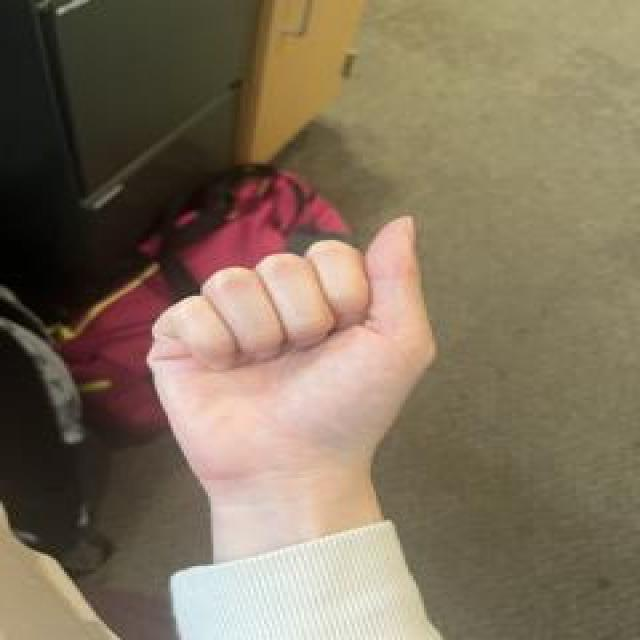A: (139, 211, 453, 519)
